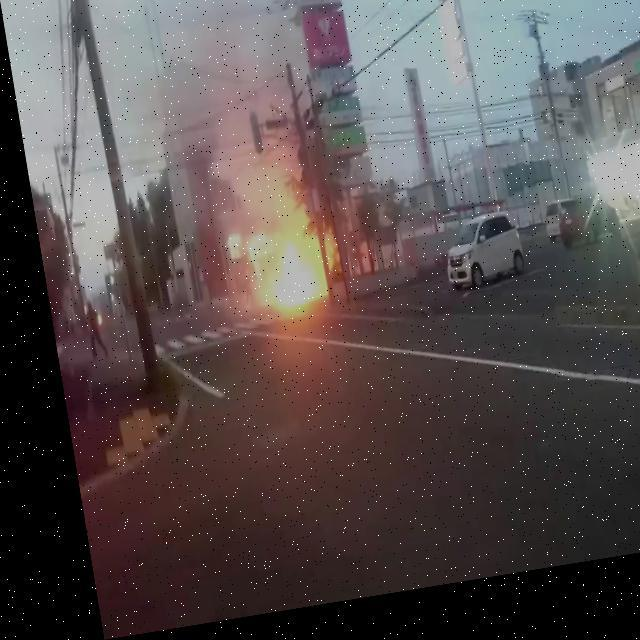Fire: (240, 239, 328, 322)
